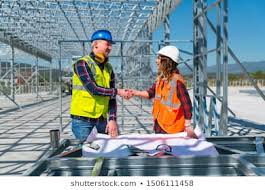helmet: (89, 25, 114, 46), (155, 44, 180, 65)
vest: (71, 62, 114, 120), (149, 77, 191, 130)
